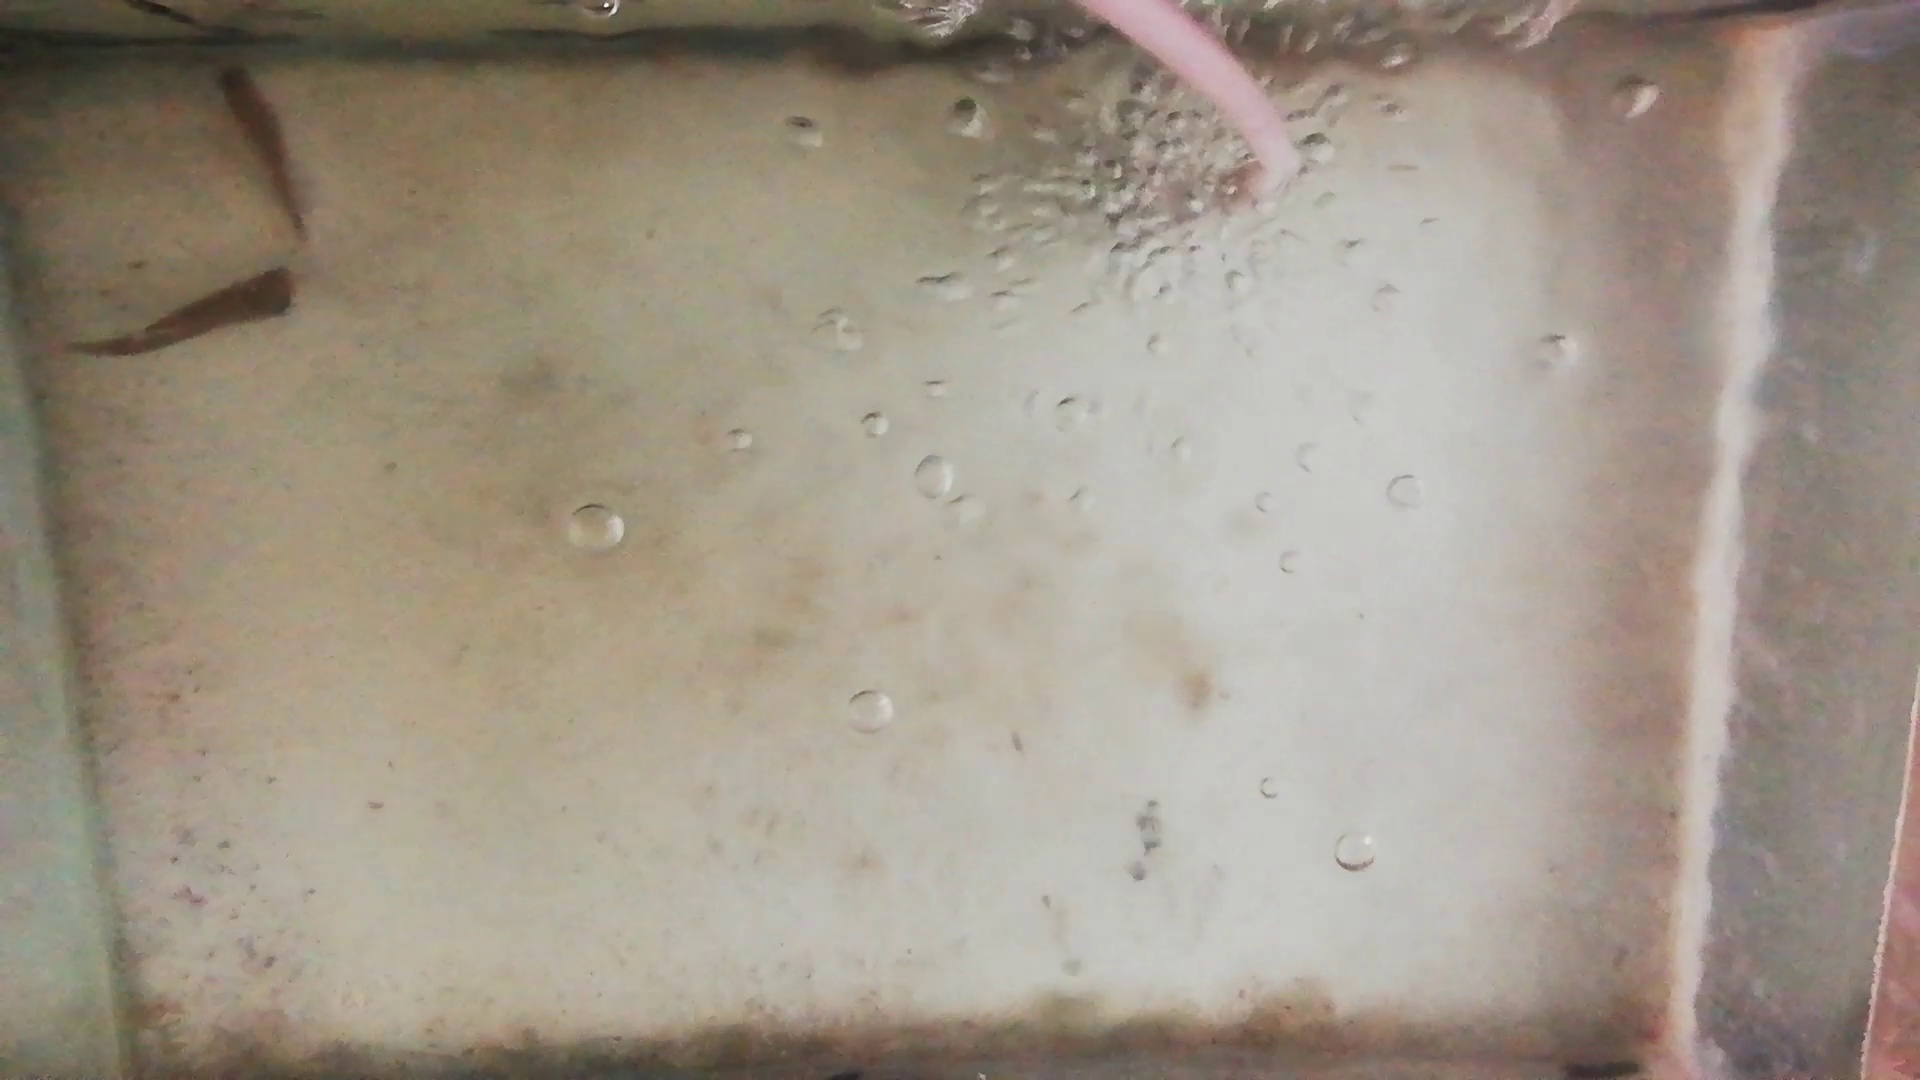fish: (65, 266, 305, 356), (216, 63, 310, 239)
